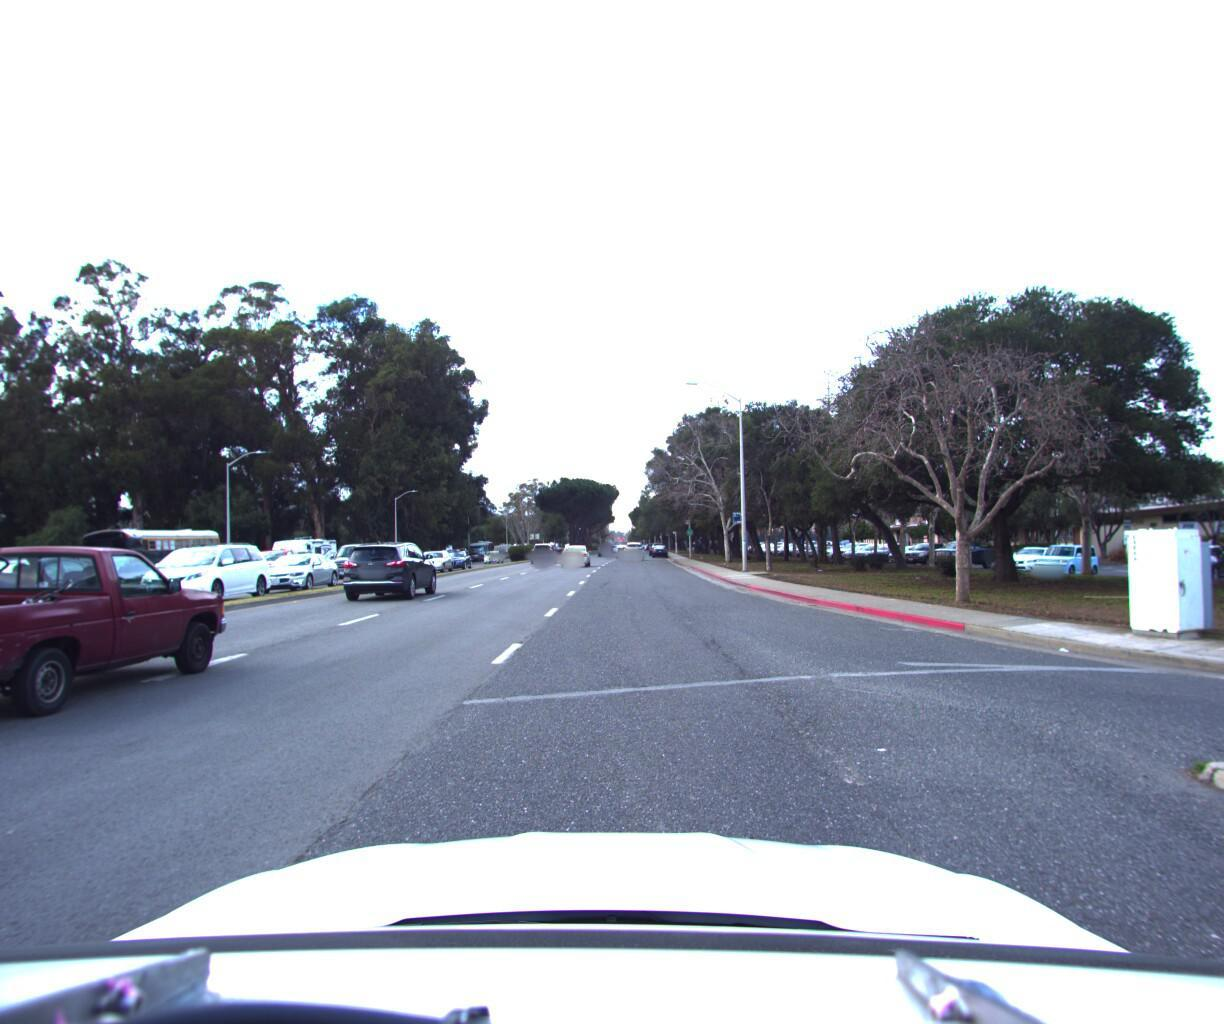bus: (83, 518, 232, 594)
car: (0, 540, 252, 750), (0, 551, 129, 637), (129, 537, 278, 606), (340, 538, 444, 600), (225, 542, 318, 587), (250, 546, 345, 590), (317, 537, 400, 581), (412, 544, 456, 570), (0, 554, 17, 616), (560, 534, 591, 562), (437, 544, 473, 566), (528, 536, 556, 559), (620, 535, 642, 554)
other_vehicle: (267, 529, 343, 577)
